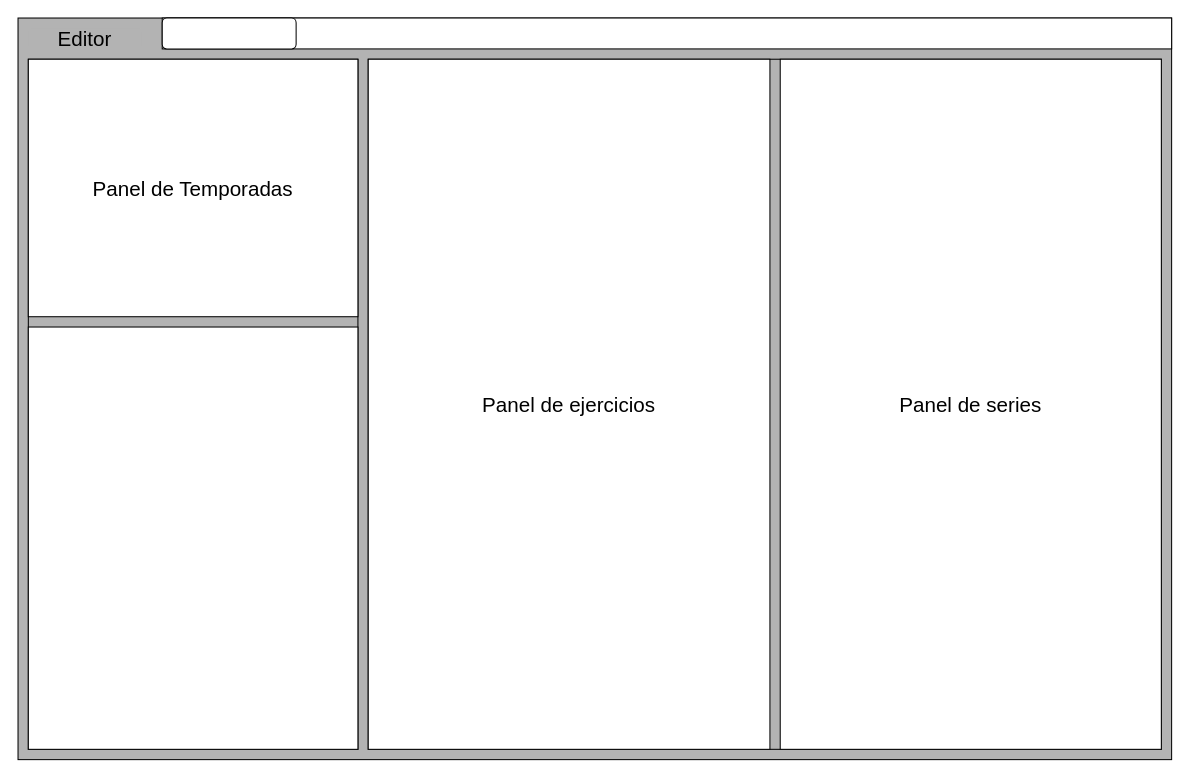
Image size: 1190x778. Some labels were removed from this diagram. Each missing label, with the box of its shape:
Buscador: (161, 17, 296, 49)
Panel de entrenamiento: (27, 326, 358, 749)
